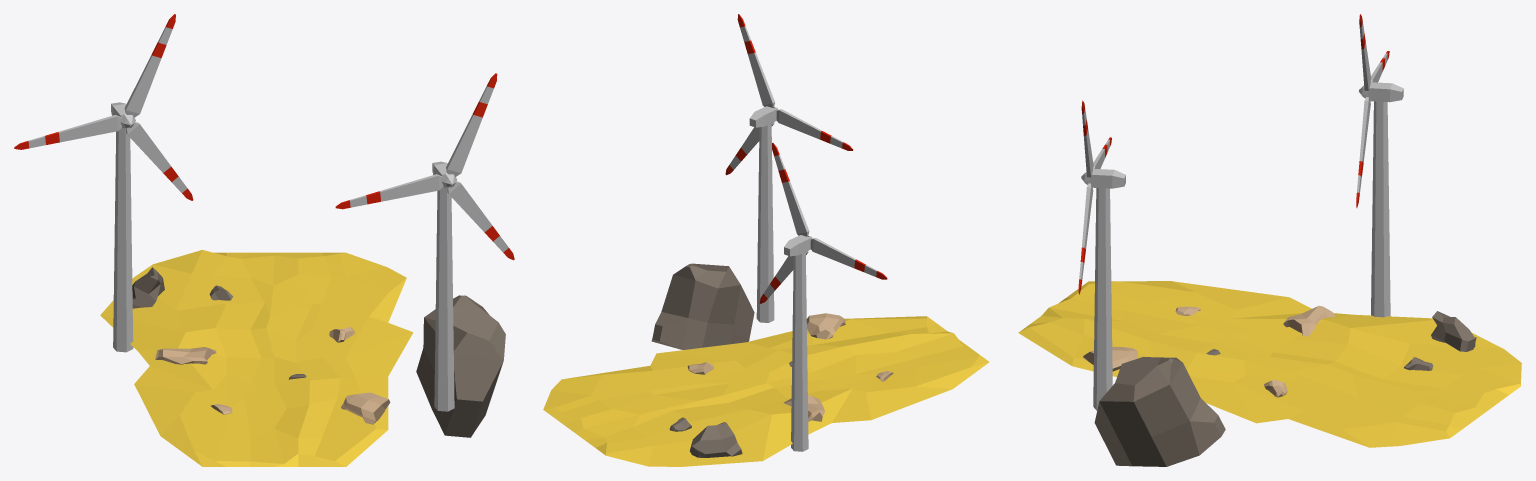
File: street4_03_2.fbx
The picture shows the model from 3 angles, left to right: view 1: azimuth 30°, elevation 25°; view 2: azimuth 150°, elevation 25°; view 3: azimuth 270°, elevation 25°; orthographic projection. The views are drawn at different scales.
Parts seen in each view (by area): view 1: sandWay03x01, stones.013, stander.001, stander, rodorBlade.001, rodorBlade, stones.015, stones.016, stones.017; view 2: sandWay03x01, stones.013, stander, stander.001, rodorBlade.001, rodorBlade, stones.016, stones.015, theRounder.001; view 3: sandWay03x01, stones.013, stander, stander.001, rodorBlade, rodorBlade.001, stones.016, stones.017, theRounder, theRounder.001, stones.015.
Part boxes in pixels (box(x1,y1,x2,y2)): sandWay03x01: box(100, 250, 413, 466); stones.013: box(416, 295, 505, 437); stander.001: box(434, 187, 454, 411); stander: box(113, 128, 133, 352); rodorBlade.001: box(335, 73, 514, 260); rodorBlade: box(14, 14, 193, 200); stones.015: box(341, 392, 390, 424); stones.016: box(132, 267, 164, 308); stones.017: box(155, 347, 216, 364); sandWay03x01: box(543, 316, 989, 466); stones.013: box(651, 263, 754, 349); stander: box(791, 252, 808, 451); stander.001: box(756, 123, 774, 322); rodorBlade.001: box(725, 14, 853, 175); rodorBlade: box(759, 143, 887, 303); stones.016: box(690, 422, 742, 457); stones.015: box(806, 313, 845, 339); theRounder.001: box(749, 106, 777, 127); sandWay03x01: box(1018, 281, 1521, 447); stones.013: box(1094, 357, 1225, 466); stander: box(1371, 101, 1390, 317); stander.001: box(1093, 188, 1112, 410); rodorBlade: box(1356, 14, 1389, 207); rodorBlade.001: box(1078, 100, 1111, 294); stones.016: box(1431, 311, 1476, 351); stones.017: box(1283, 305, 1335, 336); theRounder: box(1368, 82, 1403, 102); theRounder.001: box(1090, 168, 1125, 188); stones.015: box(1083, 347, 1137, 371).
Size of the model in its own units: 85.9 by 80.43 by 99.51.
